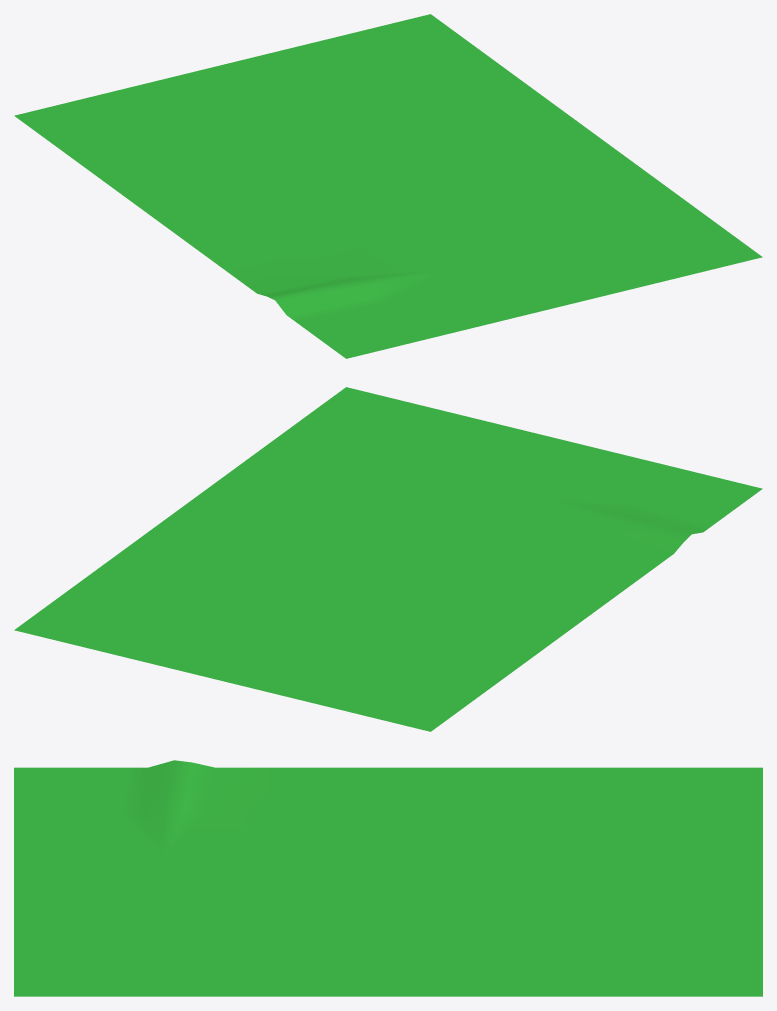
File: Carpet_02.fbx
3 views of the same model, one above another, from view 1: azimuth 30°, elevation 25°; view 2: azimuth 150°, elevation 25°; view 3: azimuth 270°, elevation 25° (orthographic). The views are drawn at different scales.
Parts seen in each view (by area): view 1: Carpet_02; view 2: Carpet_02; view 3: Carpet_02.
Boxes of the visible parts, x1,y1,x2,y2 form: Carpet_02: (14, 14, 762, 358); Carpet_02: (14, 387, 762, 731); Carpet_02: (14, 760, 762, 996).
Size of the model in its own units: 275 by 4.07 by 380.
